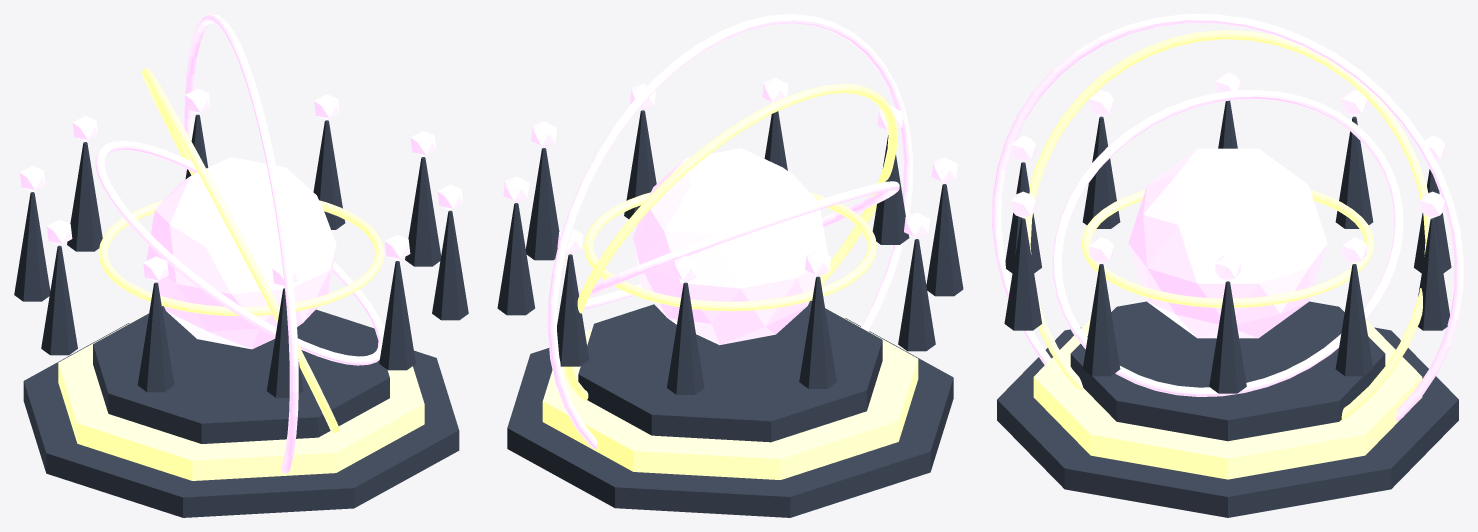
Rendered from gpu-blender-v40.glb.
3 renders of one model, left to right at view 1: azimuth 30°, elevation 25°; view 2: azimuth 150°, elevation 25°; view 3: azimuth 270°, elevation 25°, orthographic. The views are drawn at different scales.
Parts seen in each view (by area): view 1: Cylinder.002, SovereignCore_envguard-secrets-vault, Cylinder, Cylinder.001, Torus.003, Torus.001, Torus, Torus.002, Cone.006, Cone.009, Cone.005, Cone.008 (+12 smaller); view 2: Cylinder.002, SovereignCore_envguard-secrets-vault, Cylinder, Cylinder.001, Torus.003, Torus.002, Torus, Torus.001, Cone.005, Cone.001, Cone.006, Cone.003 (+12 smaller); view 3: SovereignCore_envguard-secrets-vault, Cylinder.002, Cylinder, Cylinder.001, Torus.003, Torus.001, Torus.002, Torus, Cone.001, Cone.009, Cone, Cone.008 (+7 smaller).
Boxes of the visible parts, x1,y1,x2,y2 form: Cylinder.002: (93,306,389,443); SovereignCore_envguard-secrets-vault: (146,157,336,349); Cylinder: (23,323,459,517); Cylinder.001: (58,314,424,480); Torus.003: (184,14,298,473); Torus.001: (95,141,384,365); Torus: (98,200,384,316); Torus.002: (142,68,339,432); Cone.006: (137,282,174,392); Cone.009: (432,210,468,320); Cone.005: (41,245,77,355); Cone.008: (379,261,415,370); Cylinder.002: (578,300,882,442); SovereignCore_envguard-secrets-vault: (633,148,827,345); Cylinder: (507,318,953,517); Cylinder.001: (542,308,918,479); Torus.003: (547,14,913,449); Torus.002: (564,83,897,400); Torus: (584,192,876,311); Torus.001: (578,181,899,309); Cone.005: (898,239,935,351); Cone.001: (497,203,535,315); Cone.006: (926,184,963,296); Cone.003: (667,282,704,394); SovereignCore_envguard-secrets-vault: (1128,148,1327,338); Cylinder.002: (1070,301,1385,441); Cylinder: (997,327,1458,517); Cylinder.001: (1033,319,1422,479); Torus.003: (992,14,1463,421); Torus.001: (1052,89,1403,396); Torus.002: (1024,30,1431,420); Torus: (1081,190,1374,307); Cone.001: (1335,264,1373,376); Cone.009: (1082,264,1120,376); Cone: (1209,281,1246,393); Cone.008: (1004,218,1042,330).
Size of the model in its own units: 4.41 by 4.7 by 4.49.
